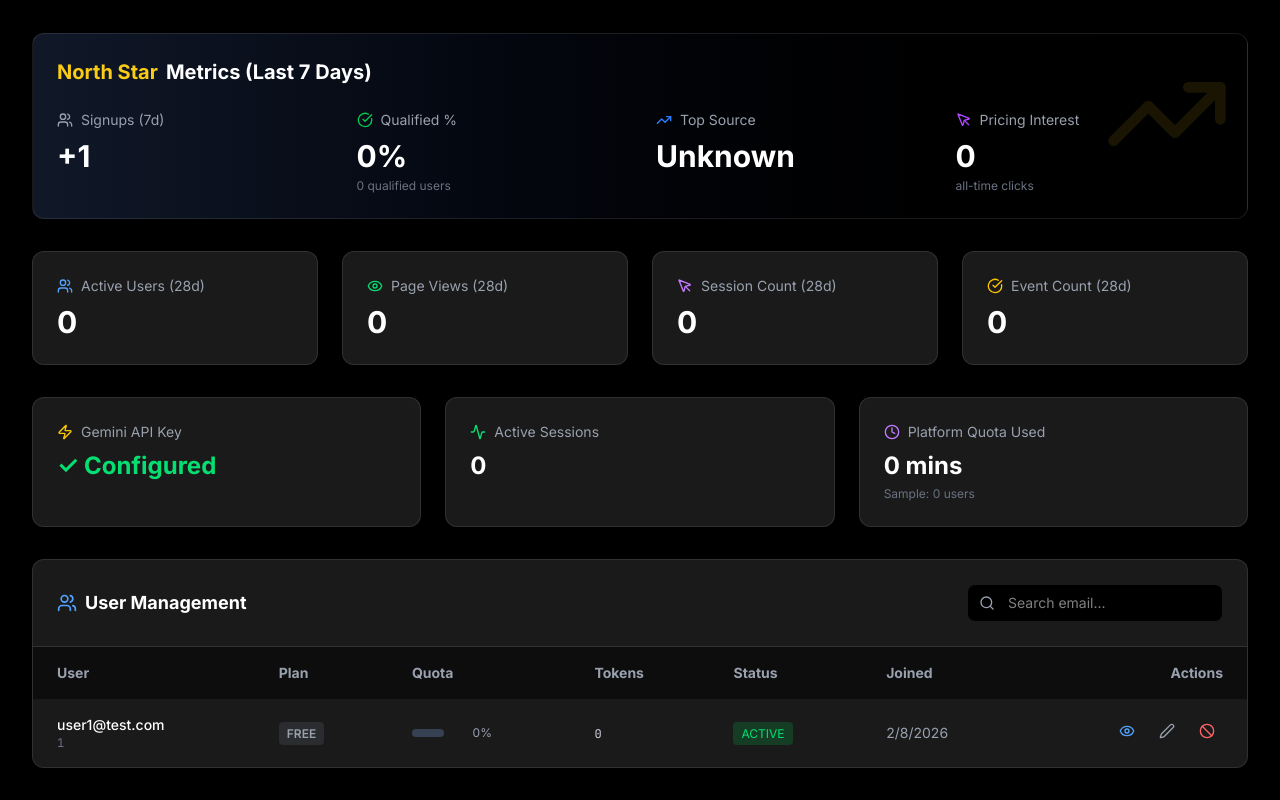
Test: AdminDashboard › handles cancel edit
(page scrolled)
Expected: the text "user1@test.com" is shown, [57, 716, 164, 733]
Click the button titled "Edit Details" at (1167, 731), box [1151, 715, 1183, 747]
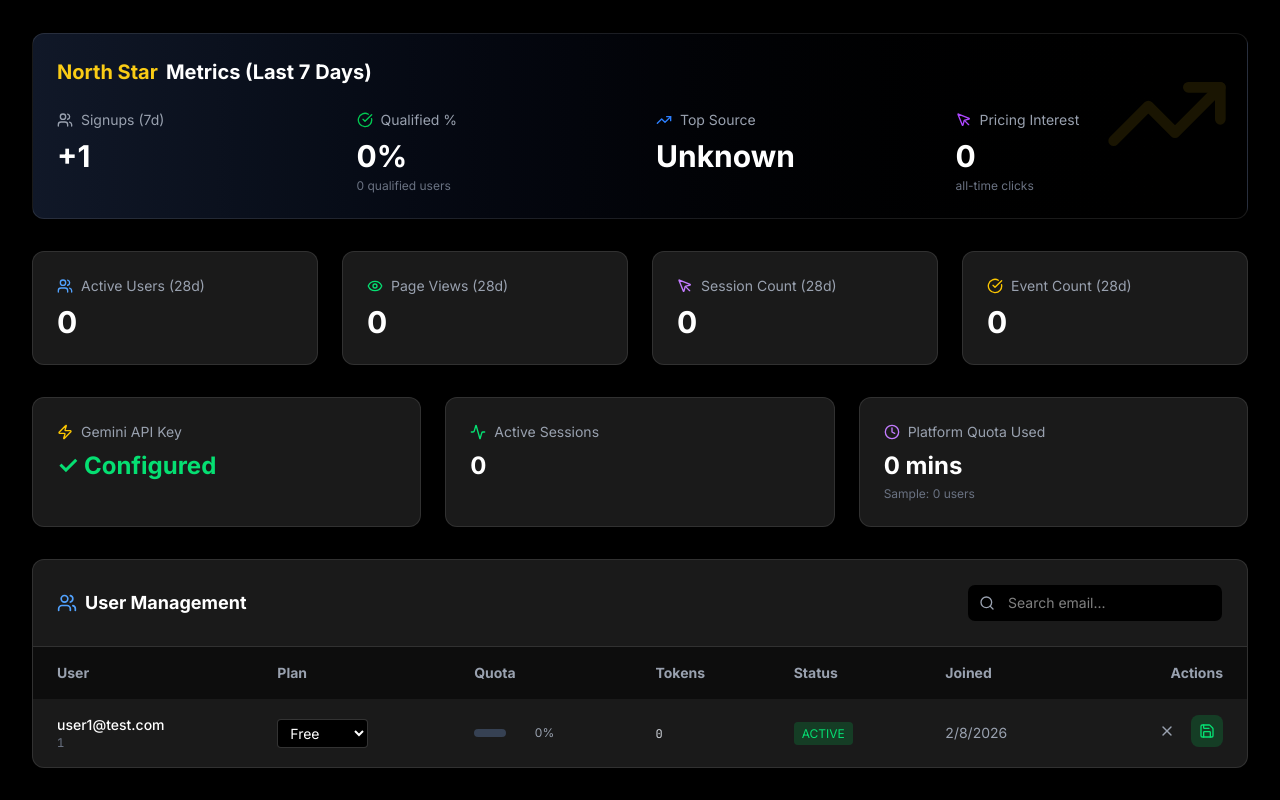
Click the button titled "Cancel" at (1167, 731), box [1151, 715, 1183, 747]
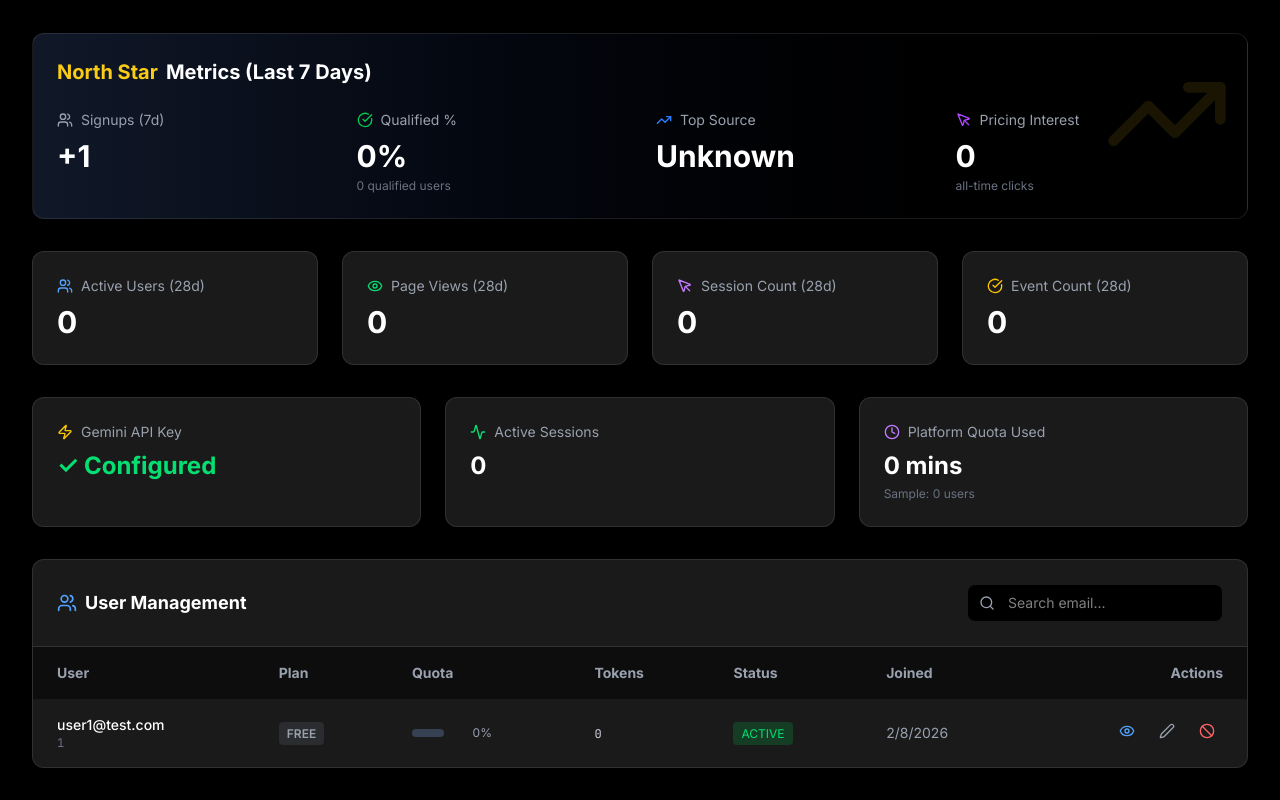
Result: the button titled "Edit Details" is shown at [1151, 715, 1183, 747]
